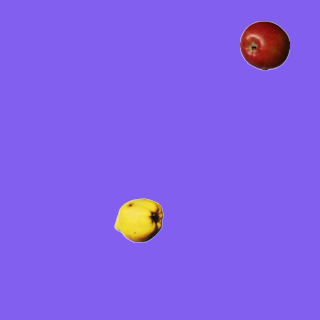Apple Braeburn: (239, 20, 289, 70)
Quince: (113, 195, 163, 245)
